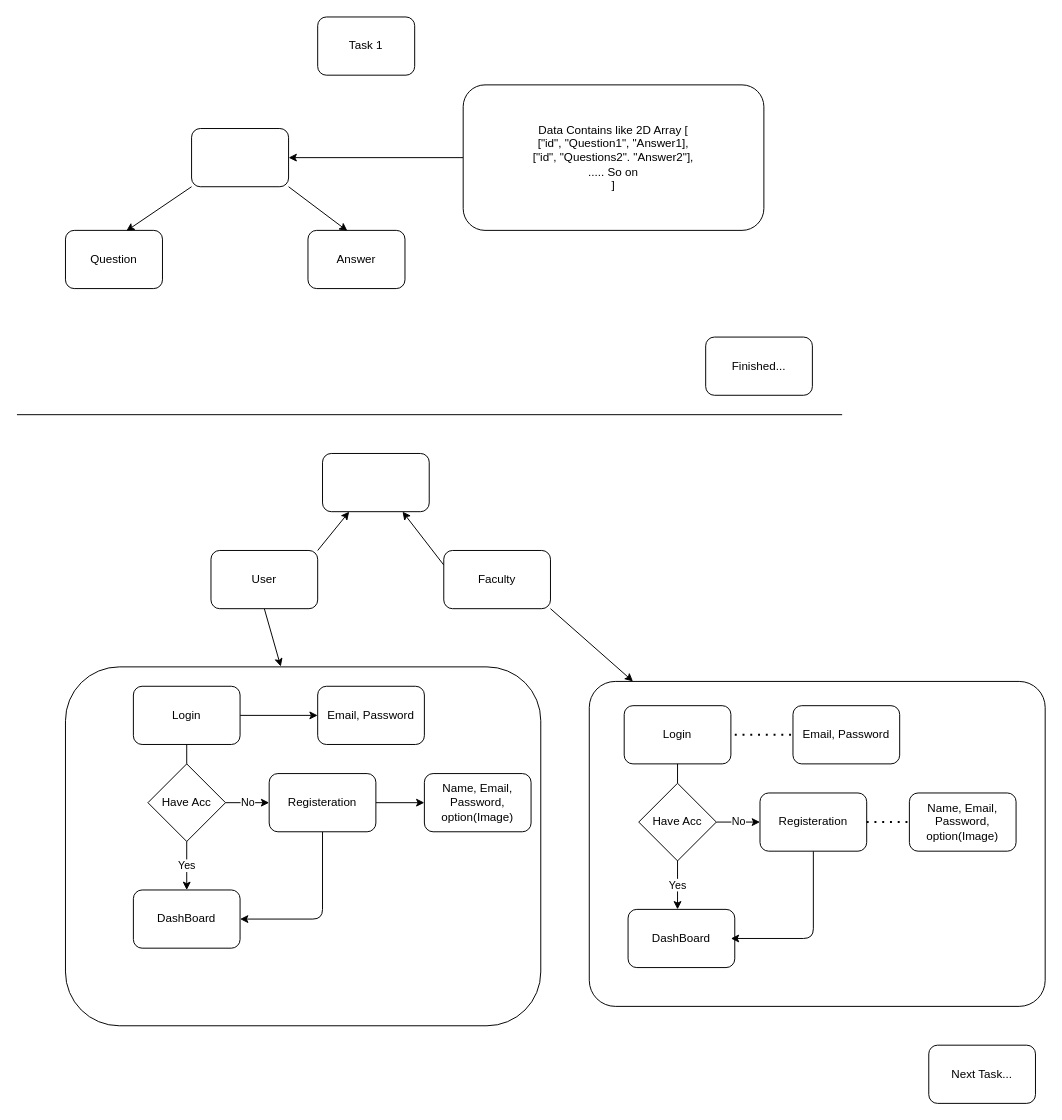
Some shapes in this 1062 by 1120 pixel diagram are drawn without their labels. The centre of each missing label's shape, as x and y in pixels:
Home: the point at 375,482
Questions: the point at 240,157
